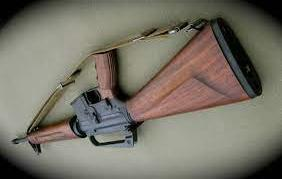larga: (11, 17, 263, 157)
